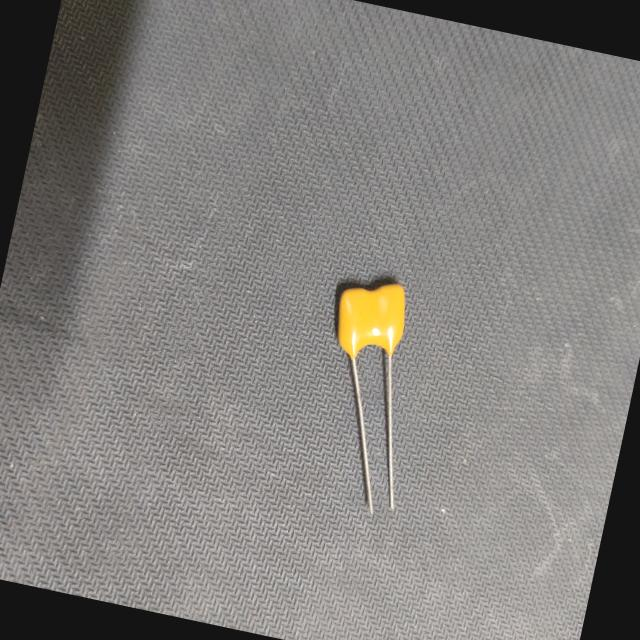resistor: (286, 259, 448, 530)
